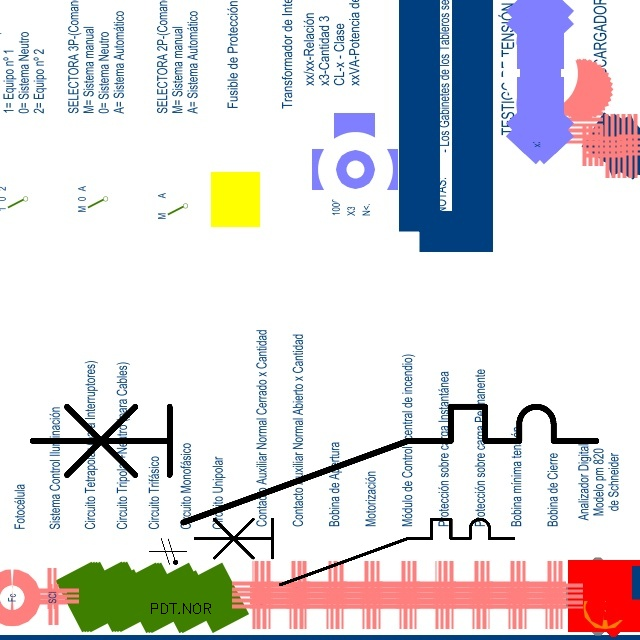interruptor_termomagnetico: (18, 392, 611, 537), (186, 511, 521, 593)
